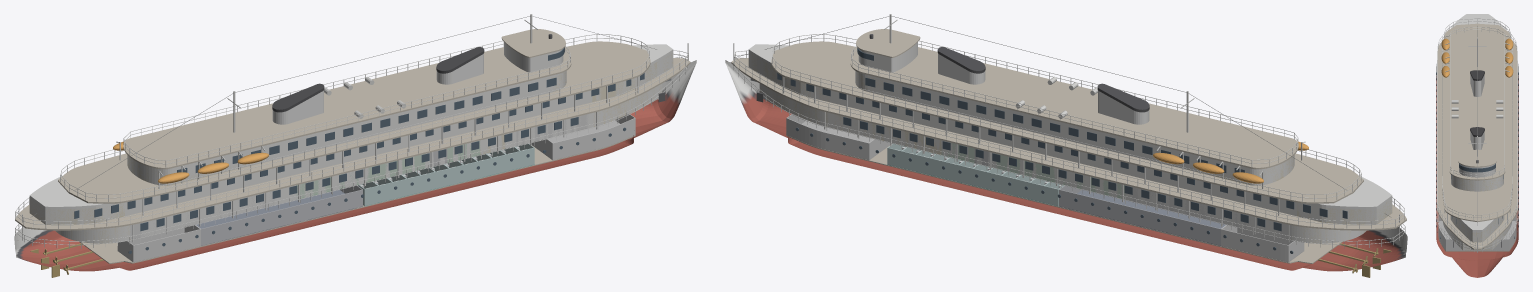
3 renders of one model, left to right at view 1: azimuth 30°, elevation 25°; view 2: azimuth 150°, elevation 25°; view 3: azimuth 270°, elevation 25°, orthographic. The views are drawn at different scales.
Parts seen in each view (by area): view 1: boat-roof-p6, boat-slab-p4, mid-shell-p3, hull-hull-p48, mid-slab-p2, main-shell-p1, boat-shell-p5, lower-room-r2, boat-top-p38, boat-ext-p37, mid-ext-p36, lower-room-r7 (+18 smaller); view 2: boat-roof-p6, boat-slab-p4, mid-shell-p3, hull-hull-p48, mid-slab-p2, main-shell-p1, boat-shell-p5, lower-room-r2, boat-top-p38, boat-ext-p37, lower-room-r7, mid-ext-p36 (+18 smaller); view 3: boat-roof-p6, boat-slab-p4, mid-slab-p2, hull-hull-p48, mid-shell-p3, lower-room-r7, mid-ext-p36, boat-ext-p37, boat-top-p8, boat-shell-p5, hull-ext-p35, boat-top-p38 (+17 smaller).
Part boxes in pixels (x1,y1,x2,y2): boat-roof-p6: [123, 47, 571, 169]; boat-slab-p4: [58, 41, 650, 203]; mid-shell-p3: [29, 44, 673, 224]; hull-hull-p48: [14, 60, 696, 271]; mid-slab-p2: [15, 58, 690, 230]; main-shell-p1: [55, 84, 662, 243]; boat-shell-p5: [127, 71, 566, 185]; lower-room-r2: [195, 185, 362, 245]; boat-top-p38: [123, 40, 570, 167]; boat-ext-p37: [60, 34, 649, 201]; mid-ext-p36: [15, 50, 688, 228]; lower-room-r7: [531, 114, 635, 160]; boat-roof-p6: [850, 47, 1298, 169]; boat-slab-p4: [771, 41, 1363, 203]; mid-shell-p3: [748, 44, 1392, 224]; hull-hull-p48: [725, 60, 1407, 271]; mid-slab-p2: [731, 58, 1406, 230]; main-shell-p1: [759, 84, 1366, 243]; boat-shell-p5: [855, 71, 1294, 185]; lower-room-r2: [1059, 185, 1226, 245]; boat-top-p38: [851, 40, 1298, 166]; boat-ext-p37: [772, 34, 1361, 201]; lower-room-r7: [786, 114, 890, 160]; mid-ext-p36: [734, 50, 1404, 228]; boat-roof-p6: [1449, 31, 1505, 180]; boat-slab-p4: [1442, 23, 1512, 222]; mid-slab-p2: [1437, 40, 1517, 249]; hull-hull-p48: [1436, 64, 1518, 277]; mid-shell-p3: [1450, 14, 1504, 242]; lower-room-r7: [1438, 214, 1516, 250]; mid-ext-p36: [1437, 25, 1517, 248]; boat-ext-p37: [1442, 18, 1512, 220]; boat-top-p8: [1458, 149, 1496, 167]; boat-shell-p5: [1451, 175, 1503, 191]; hull-ext-p35: [1437, 60, 1517, 251]; boat-top-p38: [1450, 27, 1504, 178].
Bounding box in the file's own units: 95.8 × 18.6 × 14.42.
